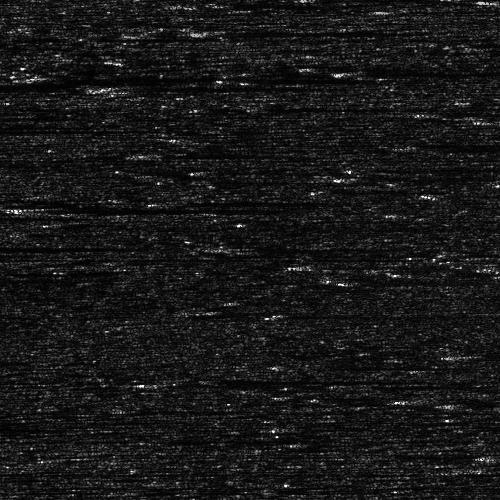object: (0, 66, 161, 87), (428, 348, 491, 357), (369, 396, 442, 403), (92, 83, 145, 92), (336, 64, 377, 75), (451, 449, 500, 458), (472, 112, 500, 127), (478, 163, 500, 180), (390, 141, 443, 148), (173, 197, 226, 204), (357, 6, 410, 13), (184, 28, 237, 35), (129, 151, 182, 156), (432, 463, 443, 472), (5, 208, 36, 211), (471, 0, 500, 1)
shadow: (37, 66, 379, 87), (0, 125, 205, 134), (357, 64, 500, 75), (211, 28, 424, 35), (119, 83, 257, 92), (200, 197, 340, 204), (0, 243, 140, 250), (156, 151, 295, 156), (406, 396, 500, 403), (437, 463, 500, 472), (384, 6, 460, 13), (417, 141, 490, 148), (0, 280, 73, 287), (0, 213, 69, 220), (21, 208, 155, 211), (459, 348, 500, 357), (178, 380, 392, 381)
